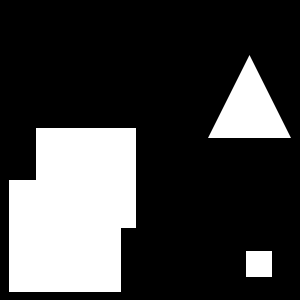circle: (9, 180, 121, 292), (36, 128, 136, 228), (246, 251, 272, 277)
triangle: (208, 55, 291, 138)
